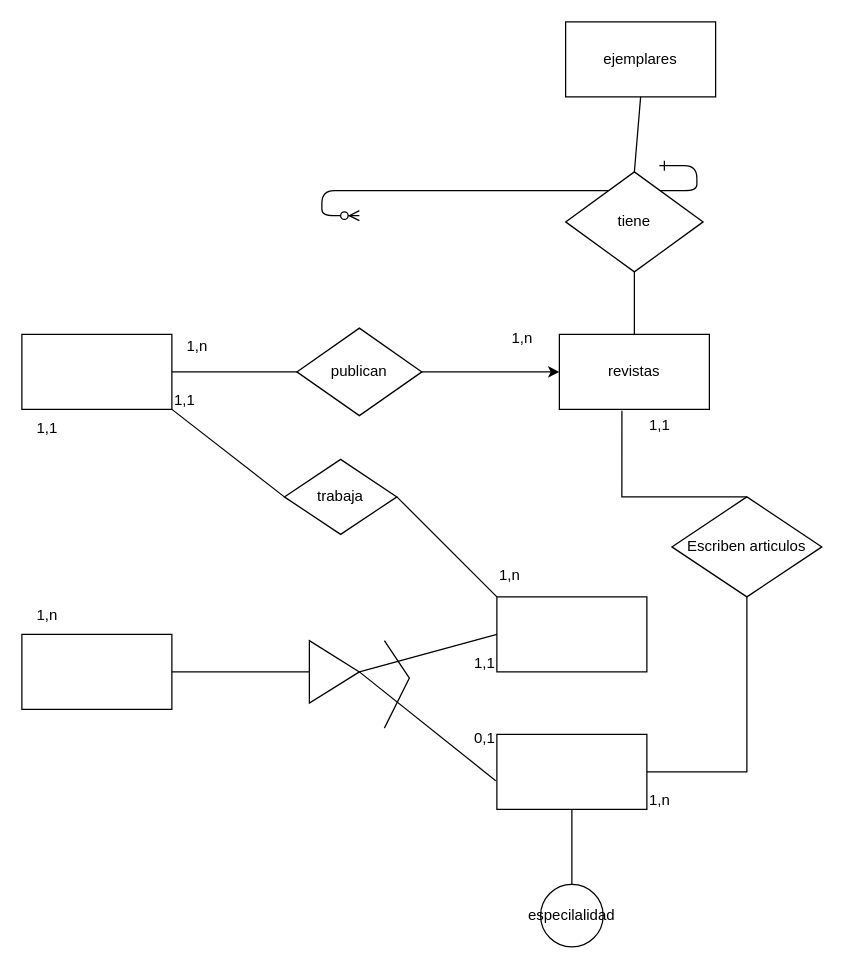
The diagram is 844 pixels wide and 969 high, and some of its shapes have lost their labels. Each missing label, with the centre of its shape:
"Empleado sucursal" belongs at (571,634).
"Empleados" belongs at (96,671).
"periodistas" belongs at (571,771).
"Surcursal" belongs at (96,371).
